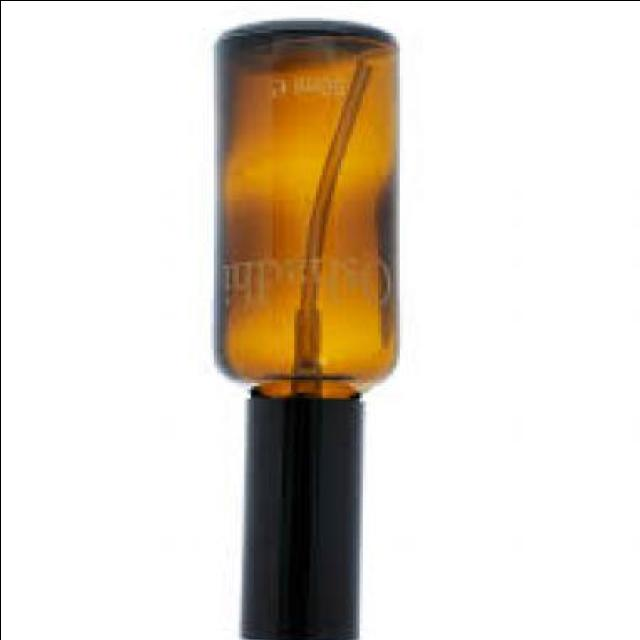kaca: (218, 20, 400, 397)
